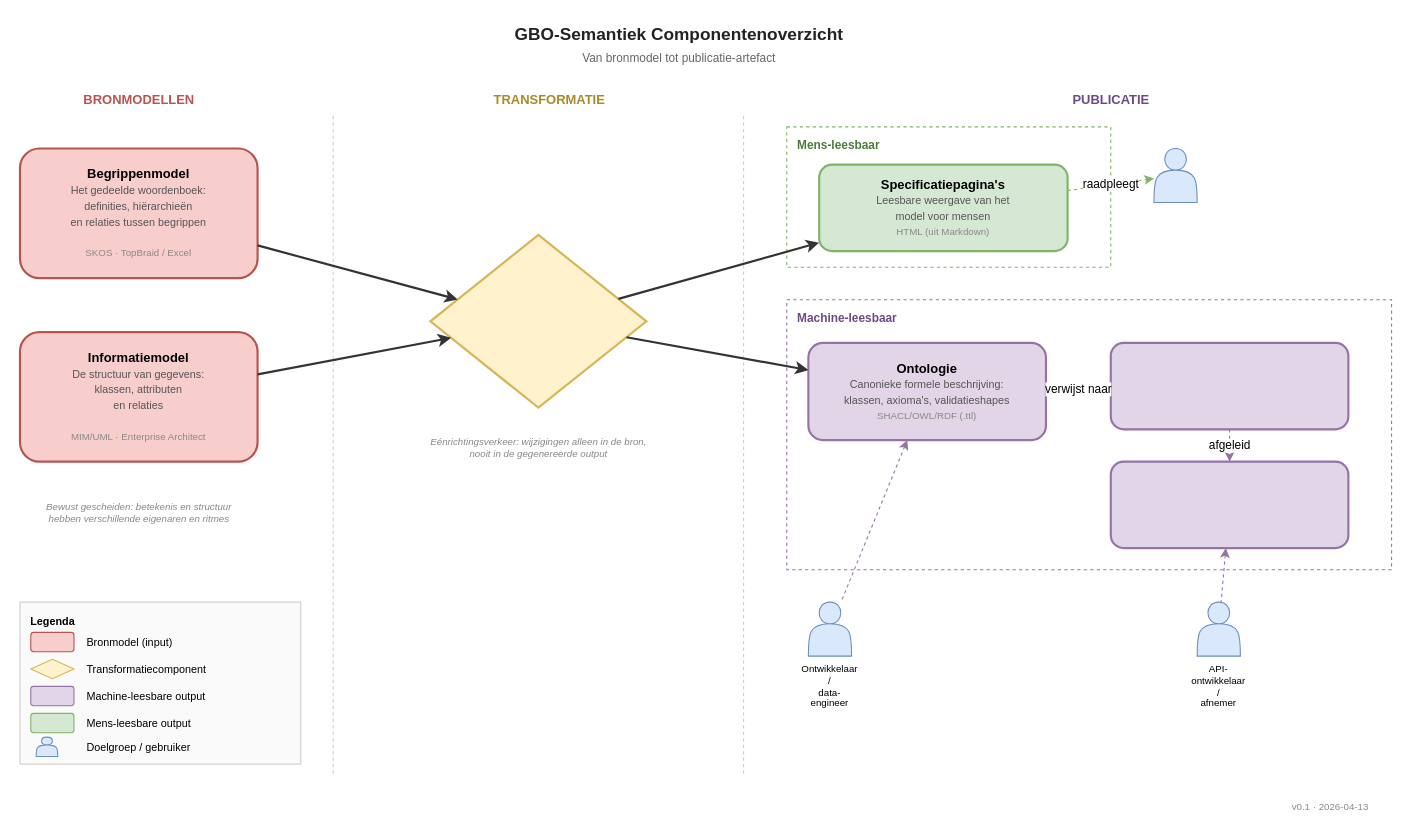
Some shapes in this 1410 by 836 pixel diagram are drawn without their labels. Here are the shapes that lost their labels. From the top down, the centre of each, then its label:
pixel 1175 174: Architect / beleidsmedewerker
pixel 538 320: Transformatie Geautomatiseerde publicatiemotor
pixel 1229 385: JSON-LD @context Vertaaltabel: JSON-sleutels → ontologie-URI's
pixel 1229 504: GraphQL-endpoint Bevragingslaag bovenop de ontologie
